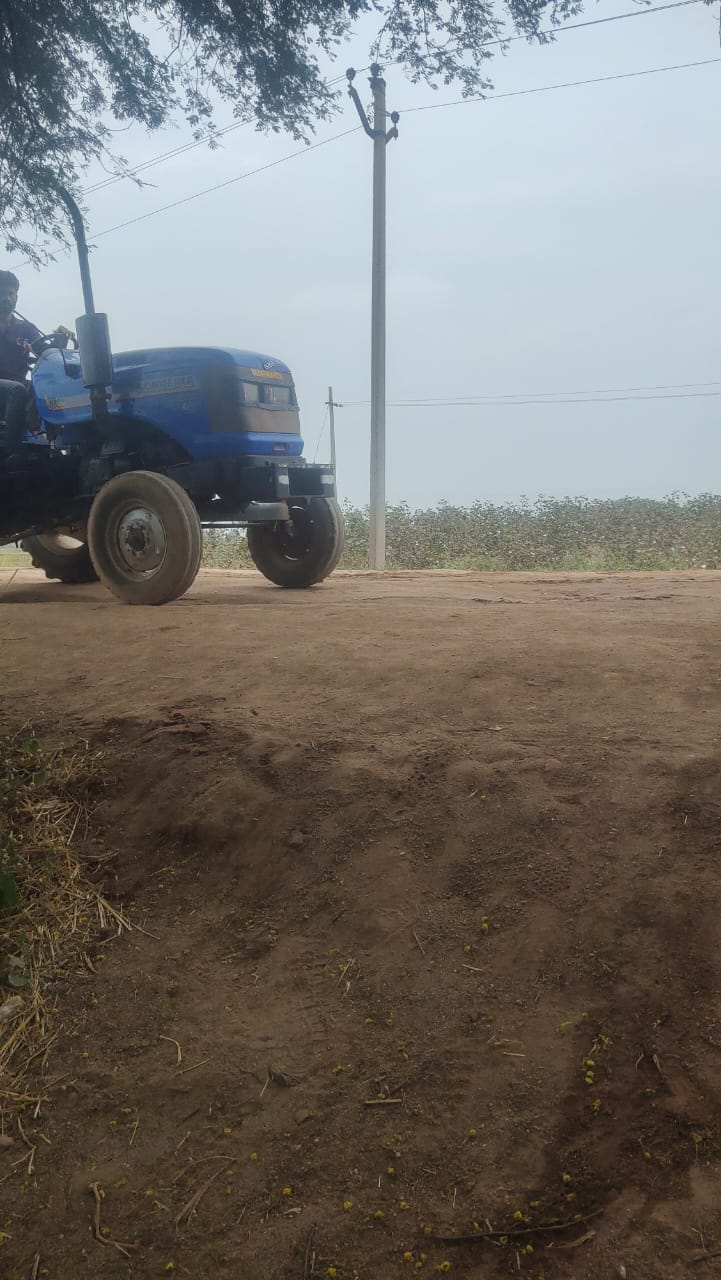num_plate: (247, 364, 291, 380)
